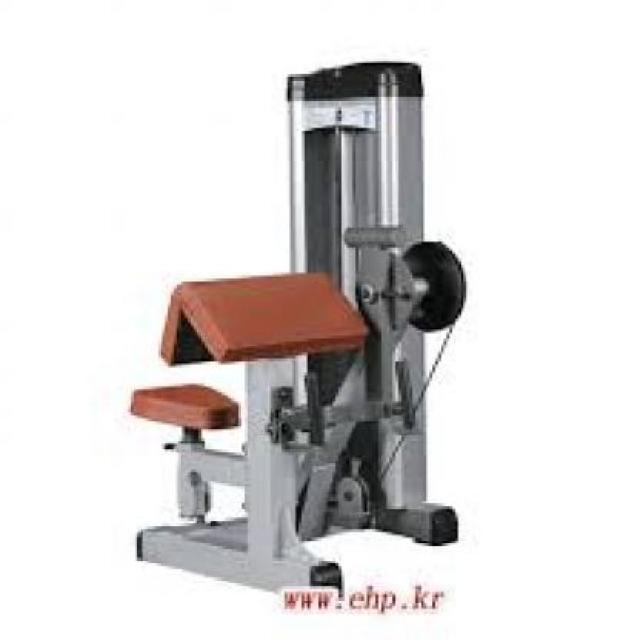arm curl machine: (129, 60, 471, 589)
